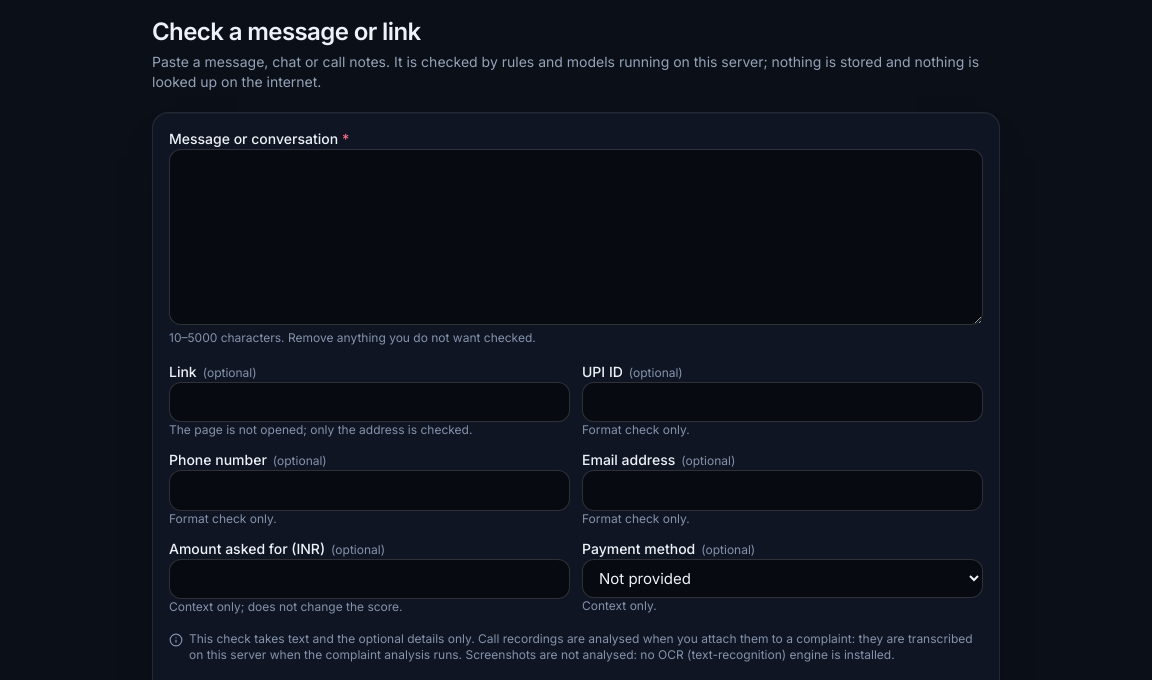
check a message or link › shows the evidence of a link written in the message as extracted, not verified (mocked API)
Type "Your account will be blocked. Update KYC at http://sbi-kyc-update.top/login" into the text box with test id "chk-text" at (576, 237), box x1=169 y1=149 x2=983 y2=324
(page scrolled)
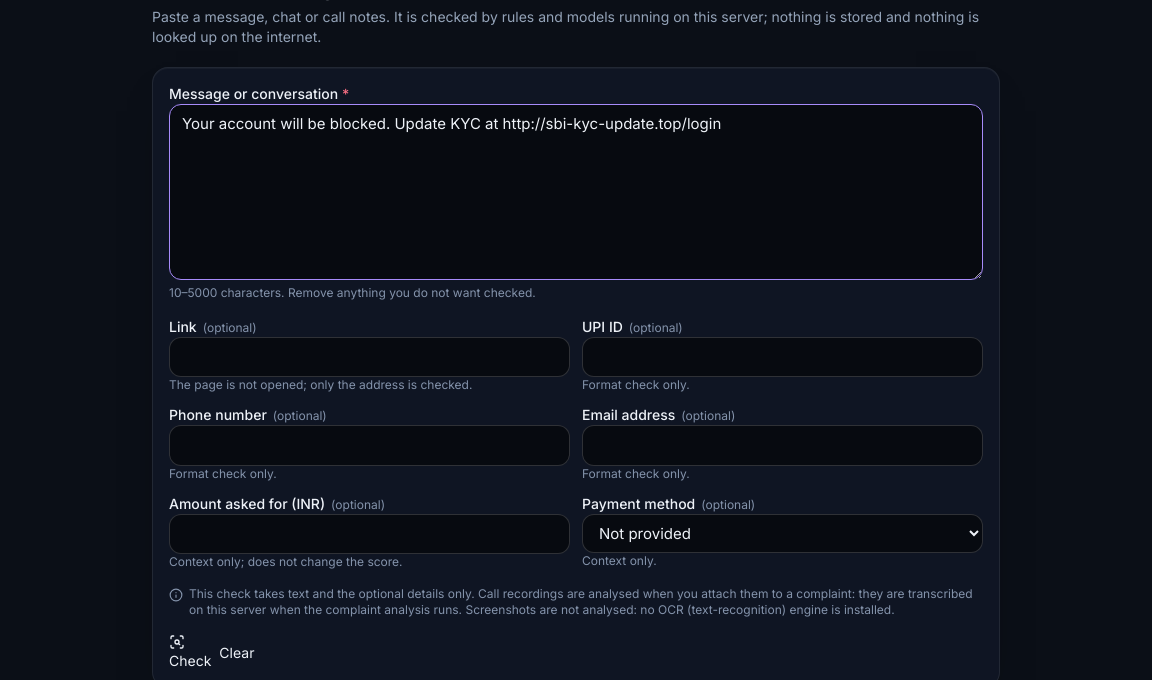
Click the button with test id "chk-submit" at (190, 652), box x1=169 y1=634 x2=211 y2=671
(page scrolled)
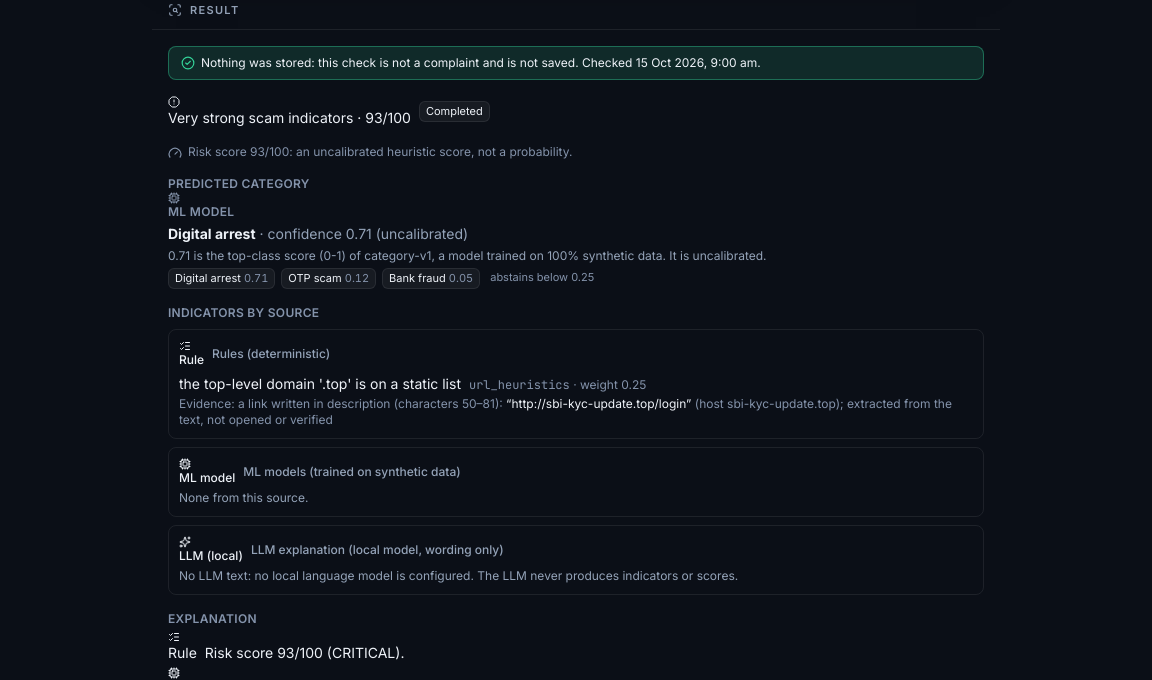
Check: the element with test id "evidence" is shown, box x1=179 y1=396 x2=973 y2=428
Check: the element with test id "evidence" shows "http://sbi-kyc-update.top/login", box x1=511 y1=396 x2=686 y2=411
Check: the element with test id "evidence" shows "not opened or verified", box x1=179 y1=396 x2=952 y2=427
